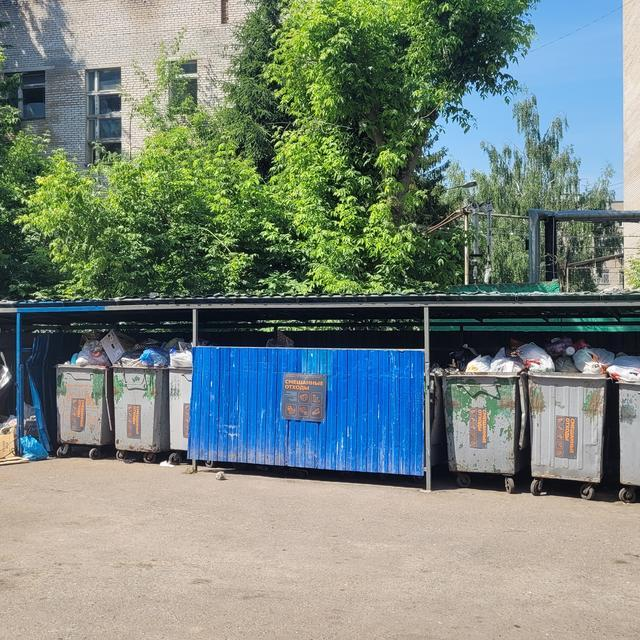Trash_Can_Full: (525, 337, 612, 484), (442, 344, 518, 474), (113, 329, 167, 453), (54, 334, 112, 446), (616, 352, 640, 487), (167, 329, 193, 452)
